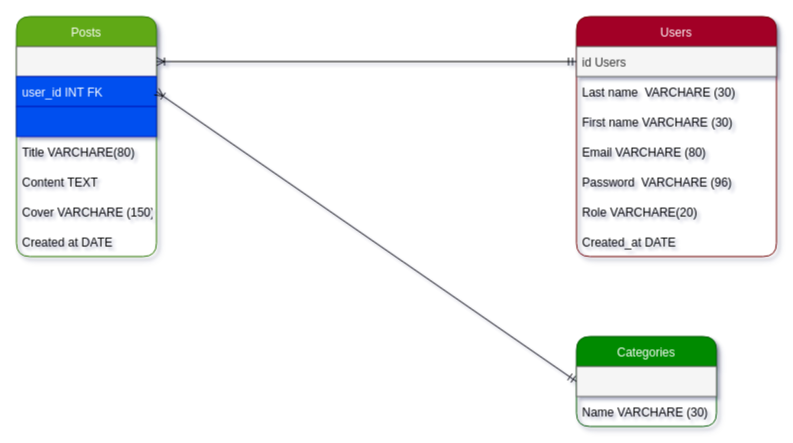
The diagram is 793 pixels wide and 443 high, and some of its shapes have lost their labels. Each missing label, with the centre of its shape:
"category_id FK" belongs at pixel 86 121.
"id categories INT" belongs at pixel 646 381.
"Id post pk" belongs at pixel 86 61.
